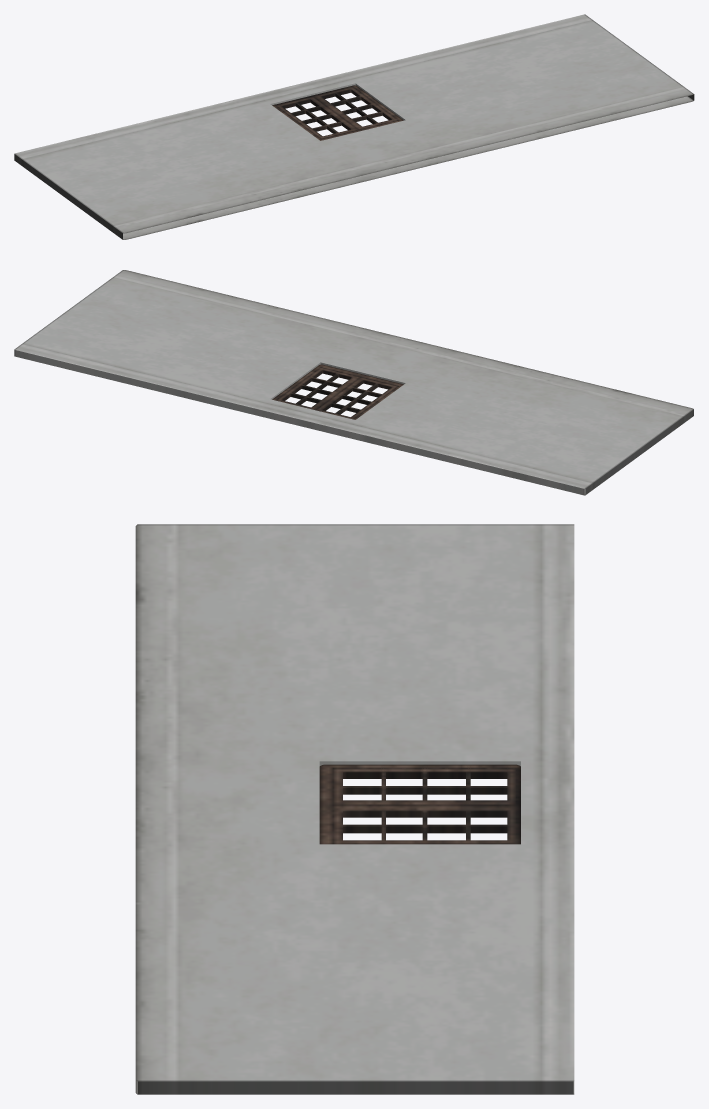
File: SM_EC_House_Wall_Window_0_9x3_2.fbx
3 views of the same model, one above another, from view 1: azimuth 30°, elevation 25°; view 2: azimuth 150°, elevation 25°; view 3: azimuth 270°, elevation 25° (orthographic). The views are drawn at different scales.
Parts seen in each view (by area): view 1: SM_EC_House_Wall_Window_0_9x3_2; view 2: SM_EC_House_Wall_Window_0_9x3_2; view 3: SM_EC_House_Wall_Window_0_9x3_2.
Part boxes in pixels (box(x1,y1,x2,y2)): SM_EC_House_Wall_Window_0_9x3_2: box(14, 14, 694, 239); SM_EC_House_Wall_Window_0_9x3_2: box(14, 270, 693, 495); SM_EC_House_Wall_Window_0_9x3_2: box(135, 524, 574, 1094).
Bounding box in the file's own units: 9 × 3 × 0.1.
